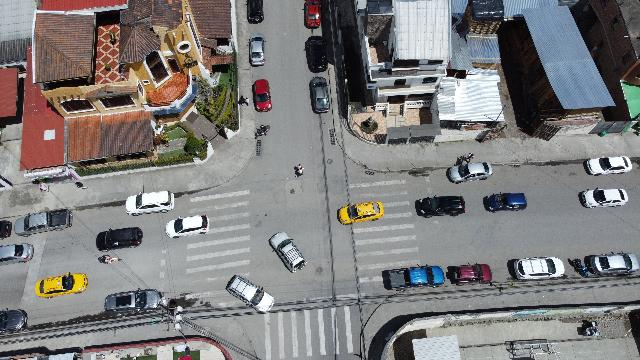Vehiculo: (226, 275, 274, 313), (382, 264, 444, 292), (14, 209, 72, 237), (104, 289, 166, 315), (268, 231, 306, 272), (35, 272, 87, 298), (584, 252, 640, 276), (508, 256, 564, 280), (126, 190, 174, 216), (96, 226, 142, 252), (415, 196, 465, 218), (165, 214, 209, 238), (336, 202, 384, 224), (447, 162, 493, 184), (446, 263, 492, 285), (578, 188, 628, 208), (584, 156, 632, 176), (483, 193, 527, 213), (304, 36, 328, 72), (0, 308, 28, 334), (310, 77, 330, 113), (1, 244, 34, 264), (252, 80, 272, 112), (248, 34, 266, 66), (303, 0, 321, 28), (246, 1, 264, 23), (0, 220, 12, 240), (98, 255, 122, 264)
